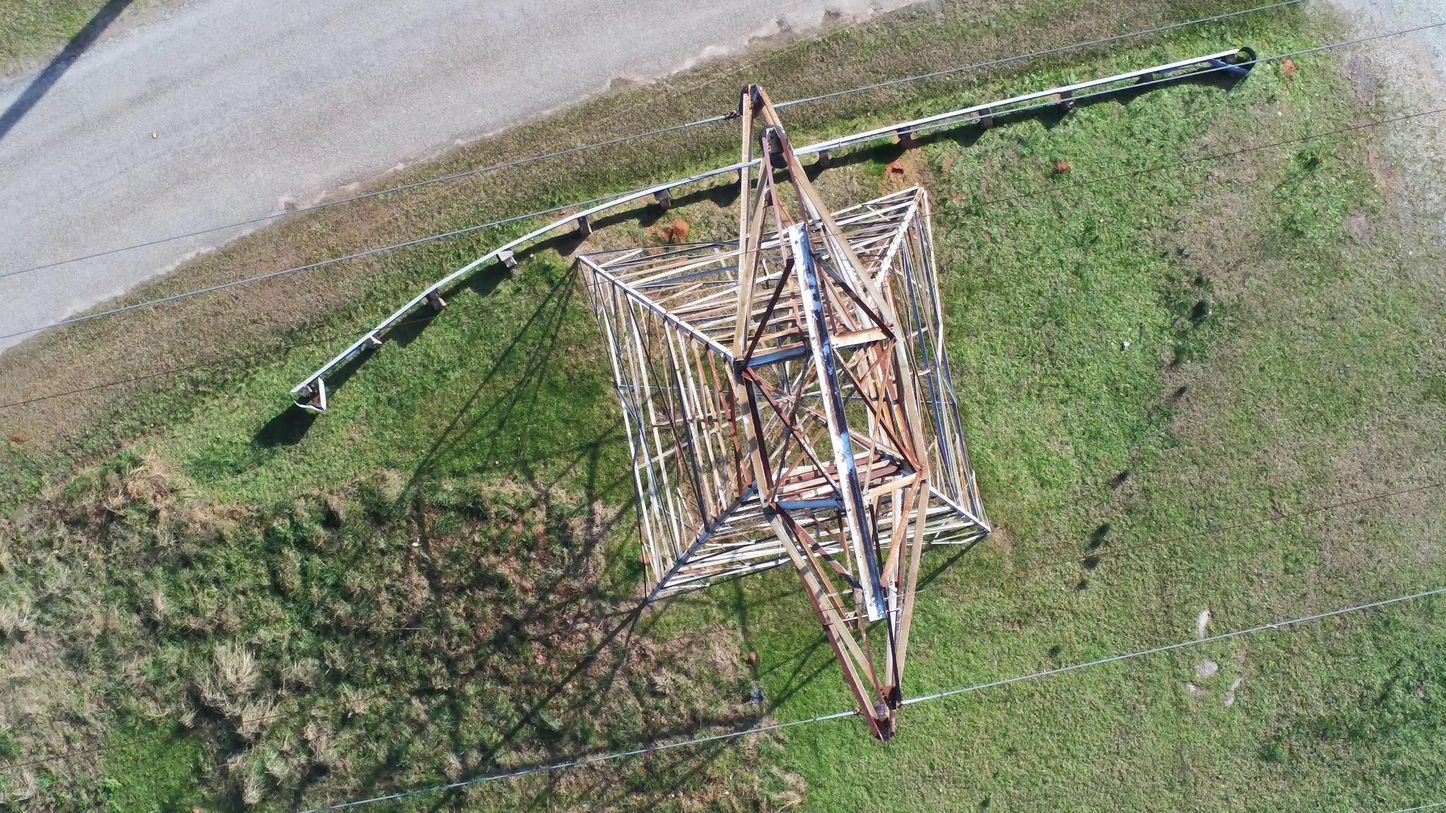tower: (572, 78, 999, 745)
